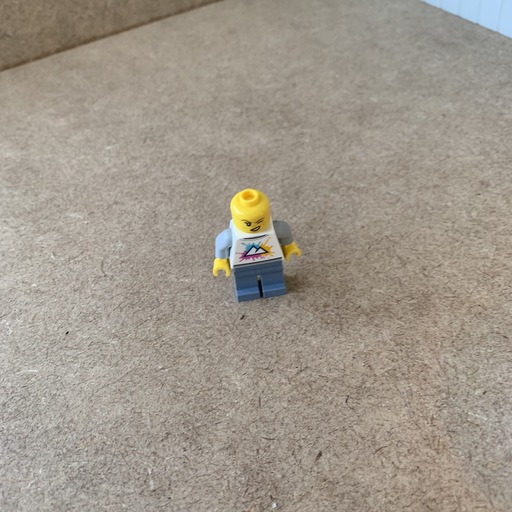human: (204, 185, 304, 314)
